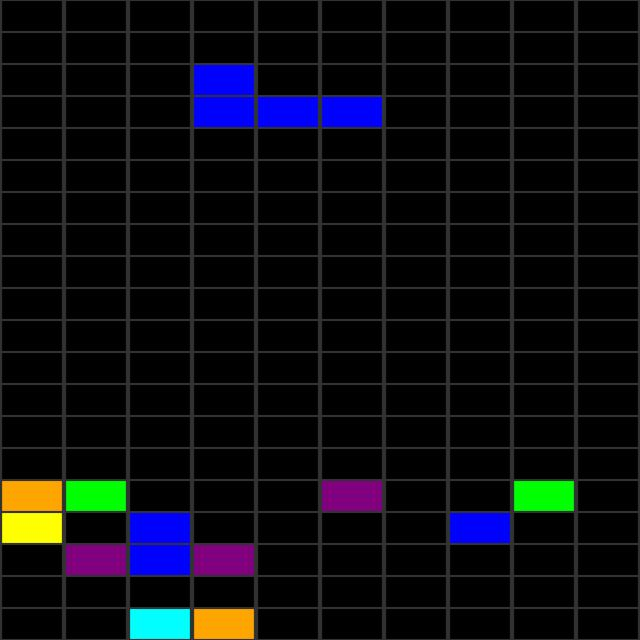Tetrimino_S: (194, 63, 382, 129)
